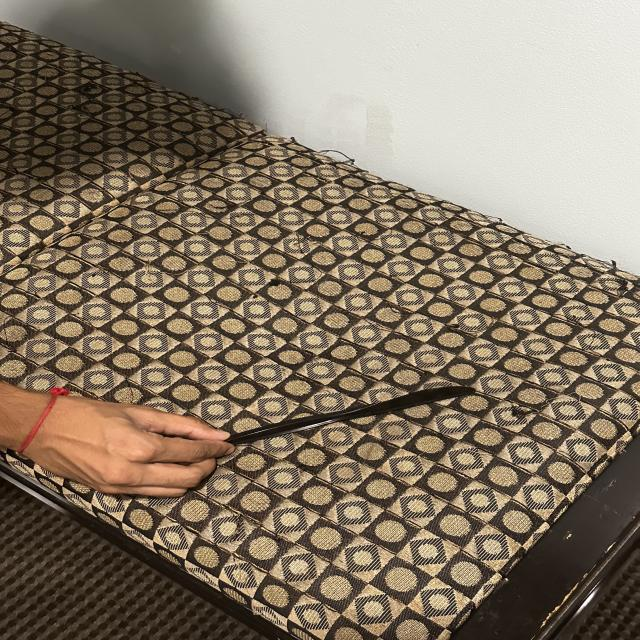knife: (206, 364, 480, 476)
